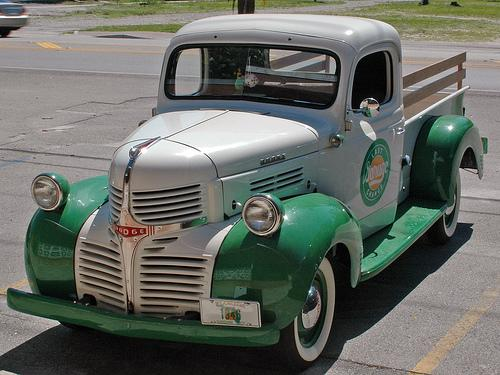truck: (6, 13, 489, 375)
